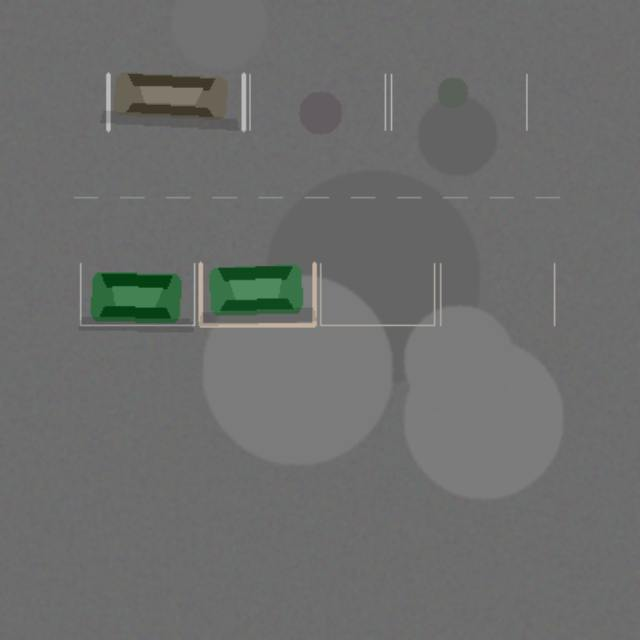space-empty: (249, 74, 385, 129), (391, 74, 526, 129), (320, 263, 434, 325), (440, 263, 554, 325)
space-occupied: (108, 74, 243, 129), (80, 263, 194, 325), (200, 263, 314, 325)
